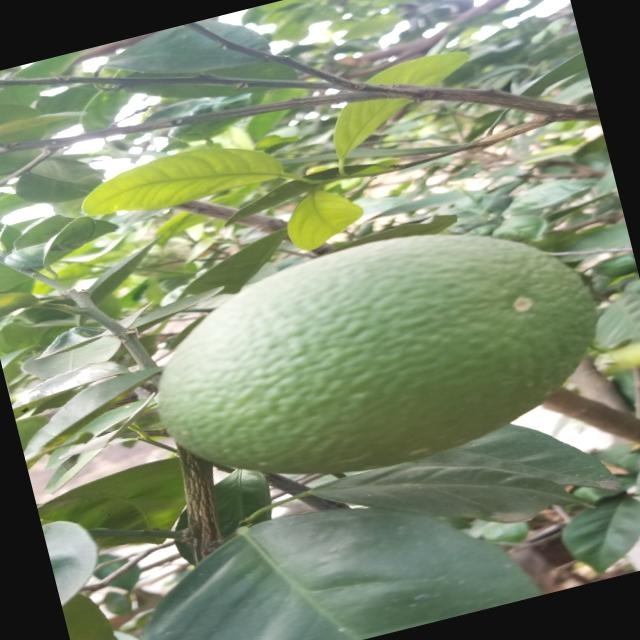agrume: (126, 185, 626, 522)
